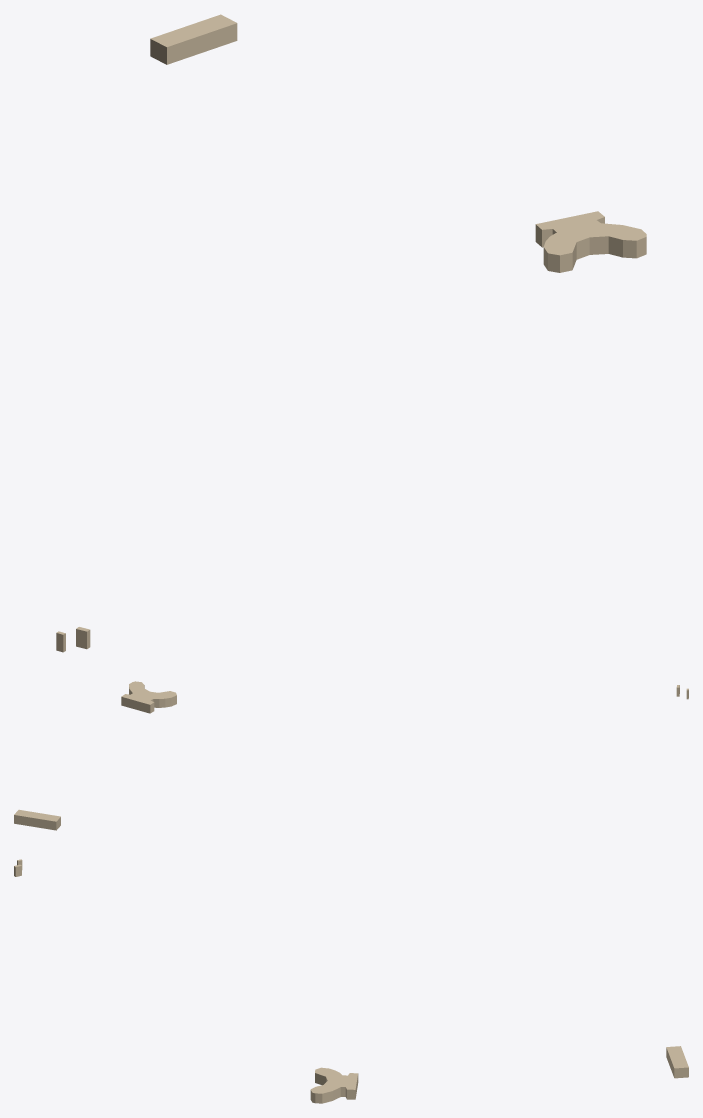
The model's file is -7_16-estimated-coarse.glb.
3 views of the same model, one above another, from view 1: azimuth 30°, elevation 25°; view 2: azimuth 150°, elevation 25°; view 3: azimuth 270°, elevation 25° (orthographic). The views are drawn at different scales.
Size of the model in its own units: 606 by 12 by 738.
